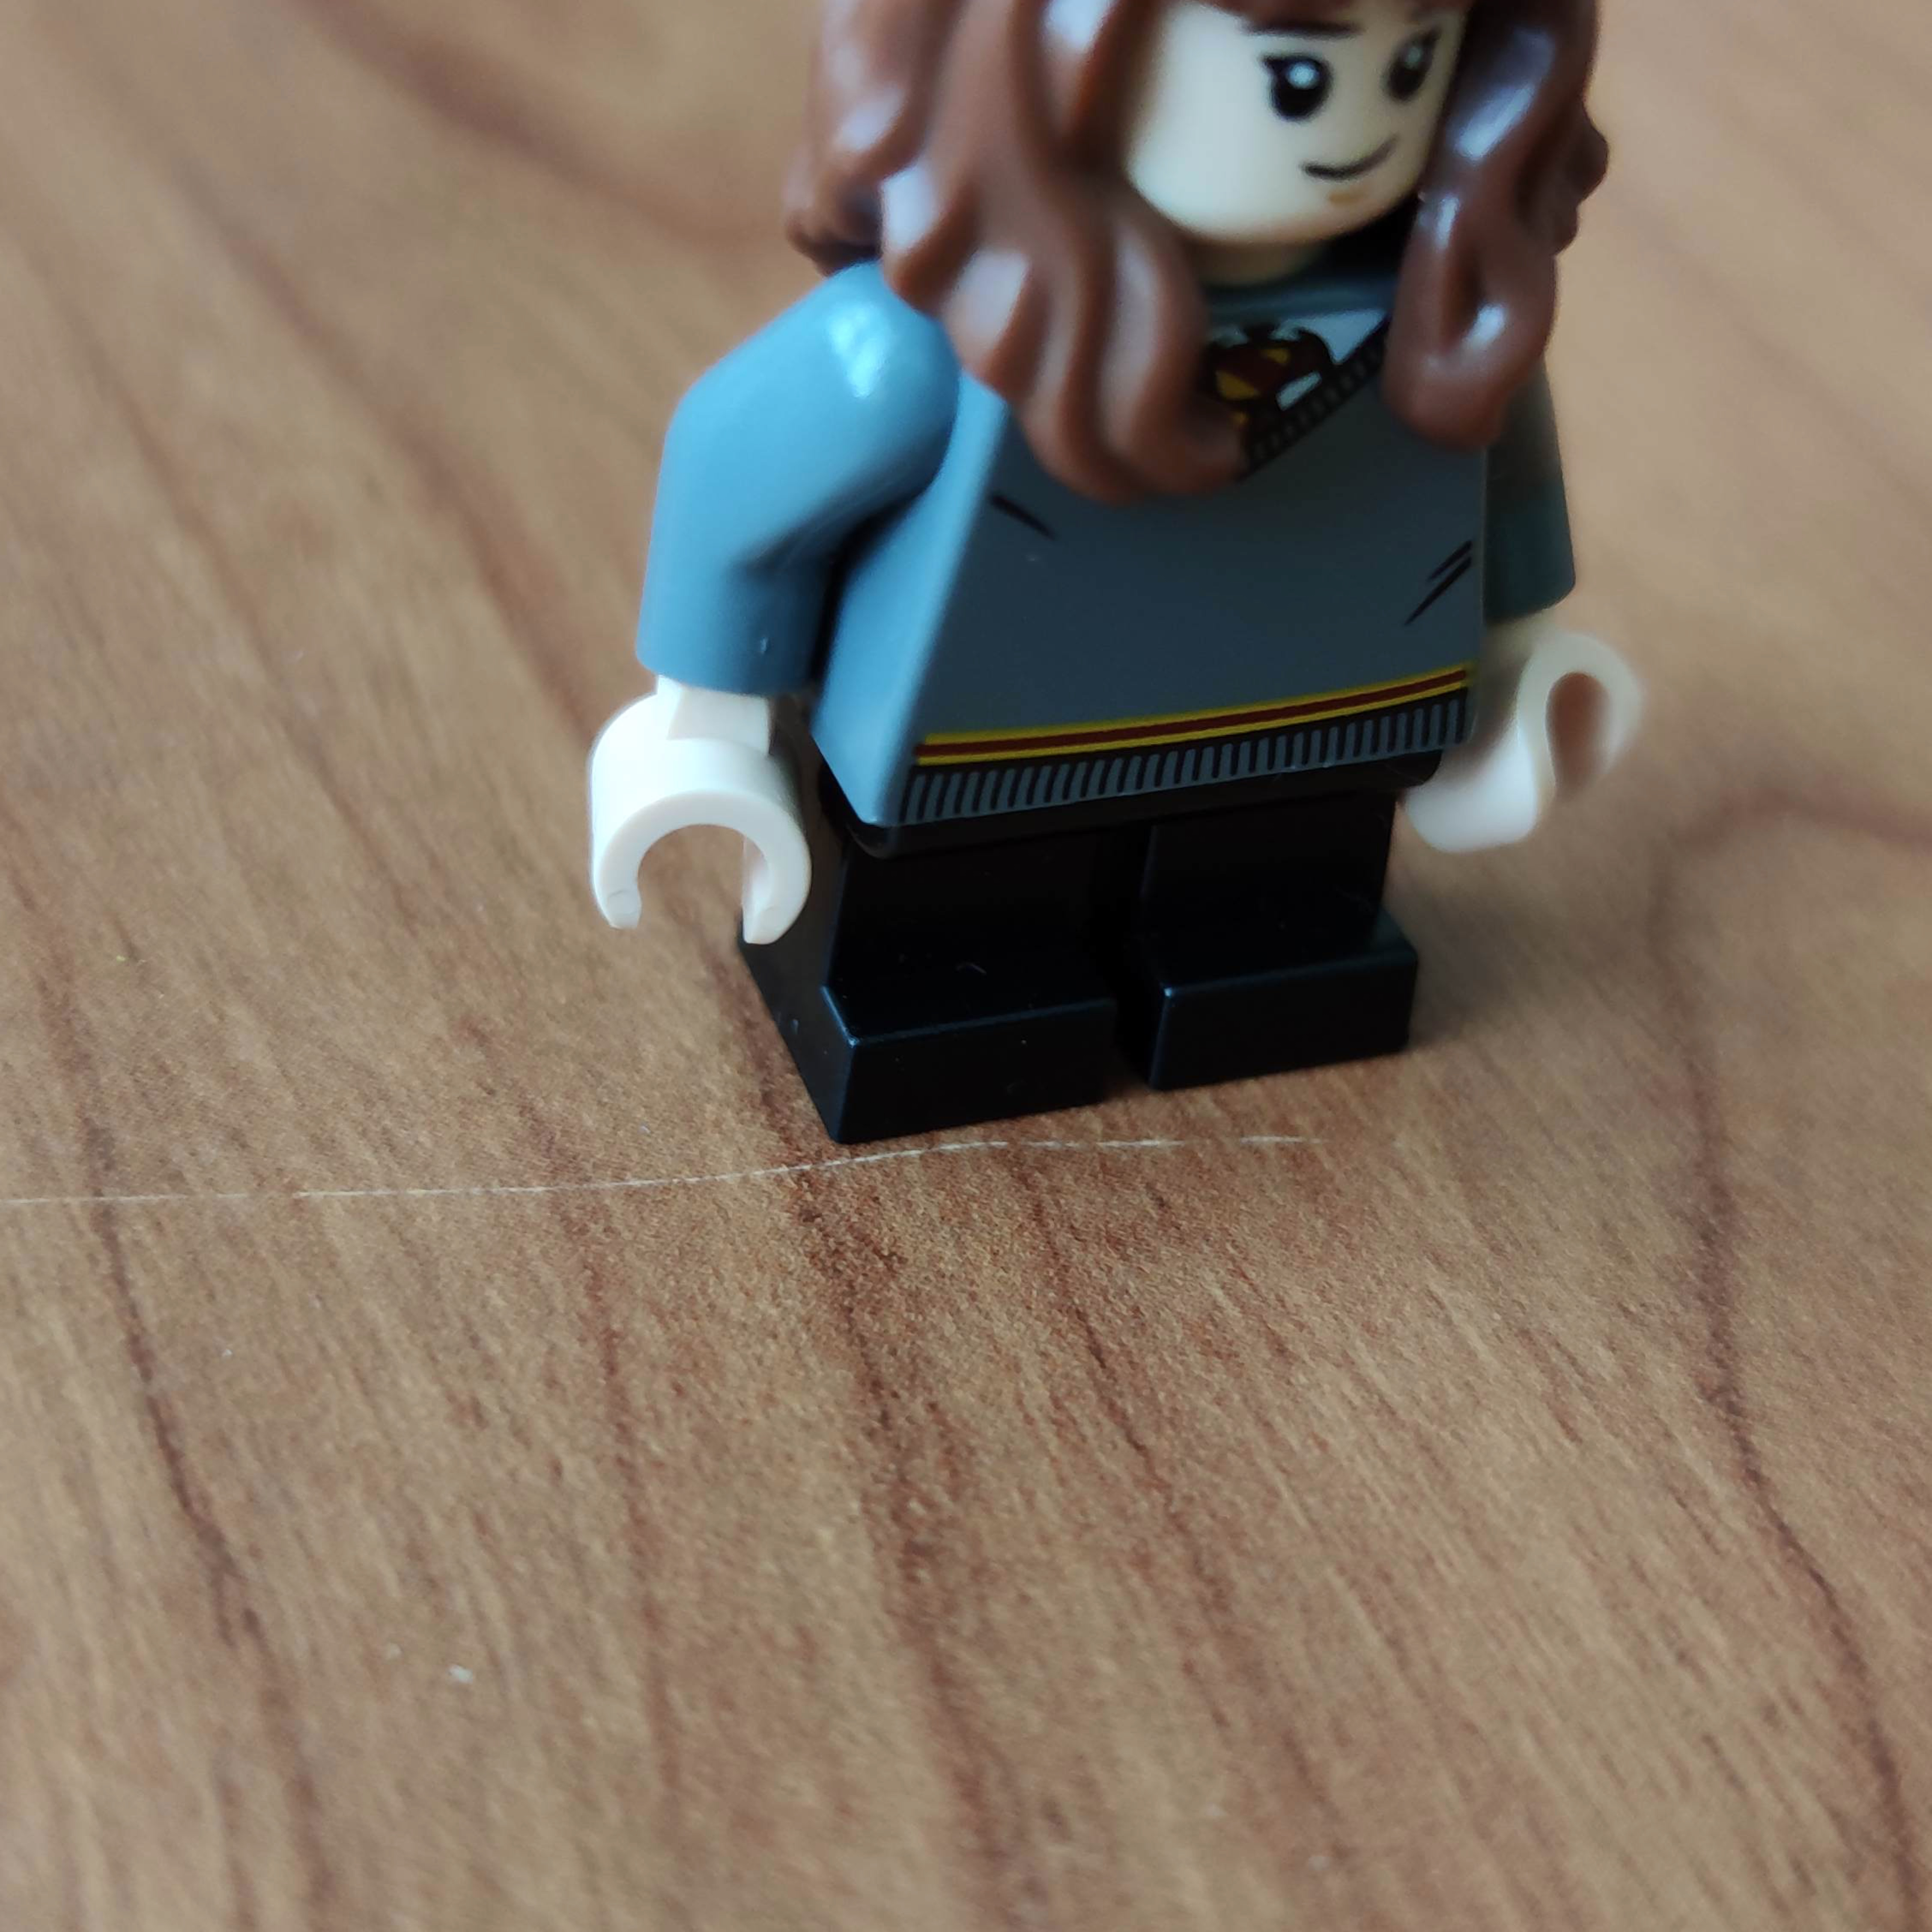lego: (591, 0, 1644, 1155)
